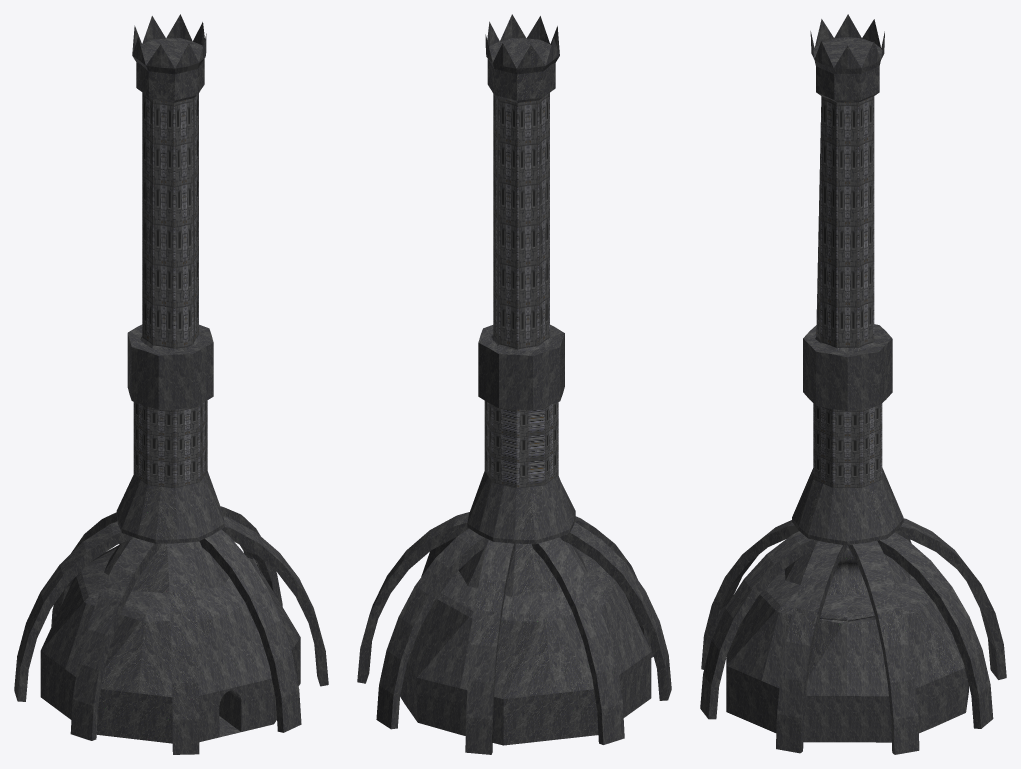
File: Adamantine tower.fbx
The picture shows the model from 3 angles, left to right: view 1: azimuth 30°, elevation 25°; view 2: azimuth 150°, elevation 25°; view 3: azimuth 270°, elevation 25°; orthographic projection.
Parts seen in each view (by area): view 1: Adamantine Tower.000; view 2: Adamantine Tower.000; view 3: Adamantine Tower.000.
Part boxes in pixels (<box>): Adamantine Tower.000: <box>14,14,328,754</box>; Adamantine Tower.000: <box>357,14,671,754</box>; Adamantine Tower.000: <box>700,14,1006,754</box>.
Bounding box in the file's own units: 2632 × 6275 × 2632.
